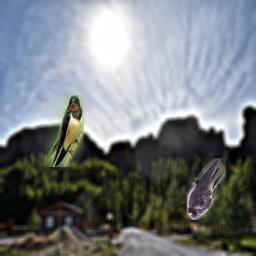Swallow: (44, 95, 84, 167), (186, 158, 226, 220)
